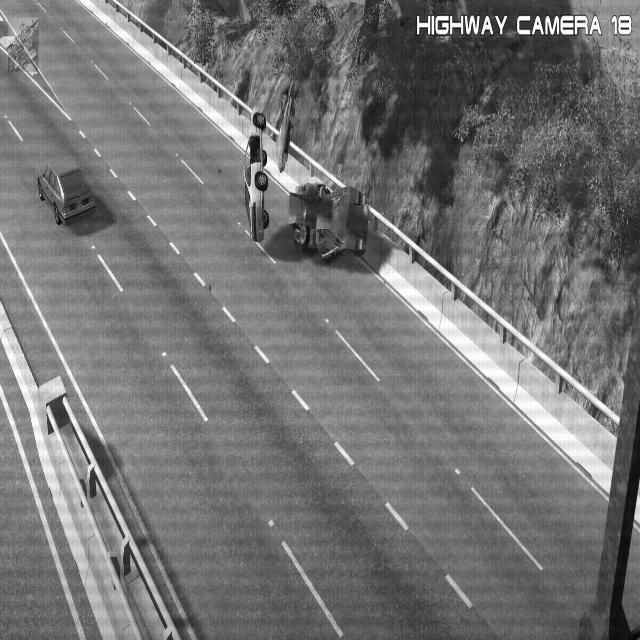accident: (285, 173, 372, 265), (240, 103, 273, 249)
vehicle: (31, 150, 96, 235)
